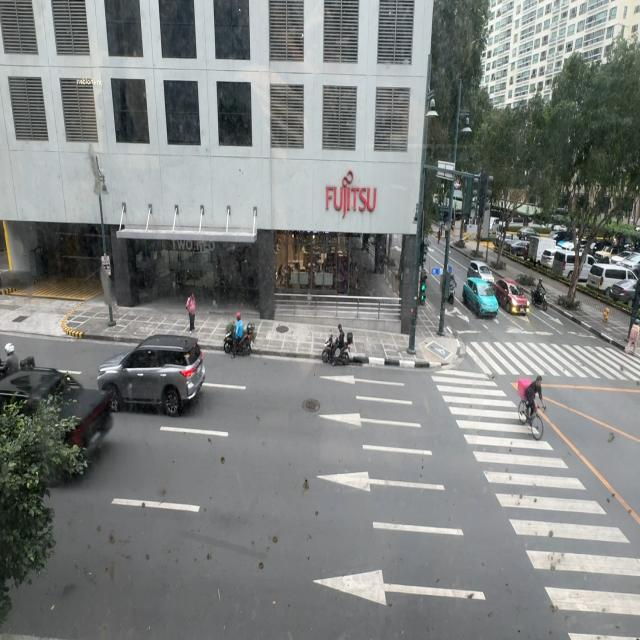pedestrain: (185, 292, 196, 335)
waiting: (620, 308, 640, 365)
